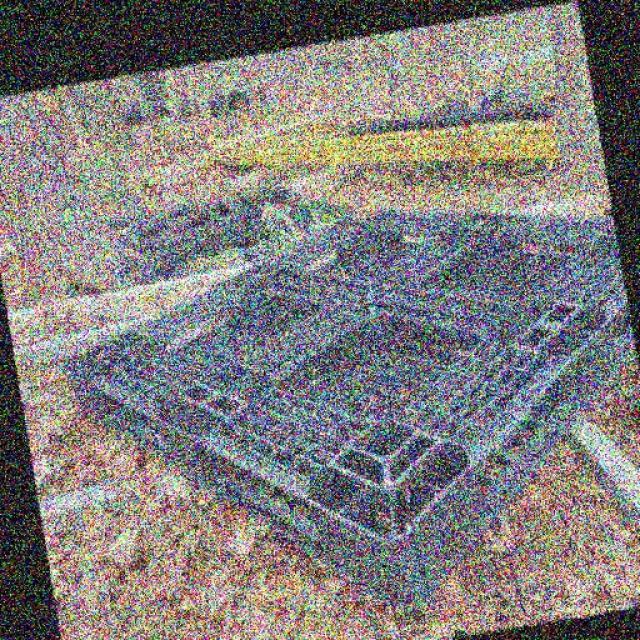non-igps: (53, 201, 640, 612)
